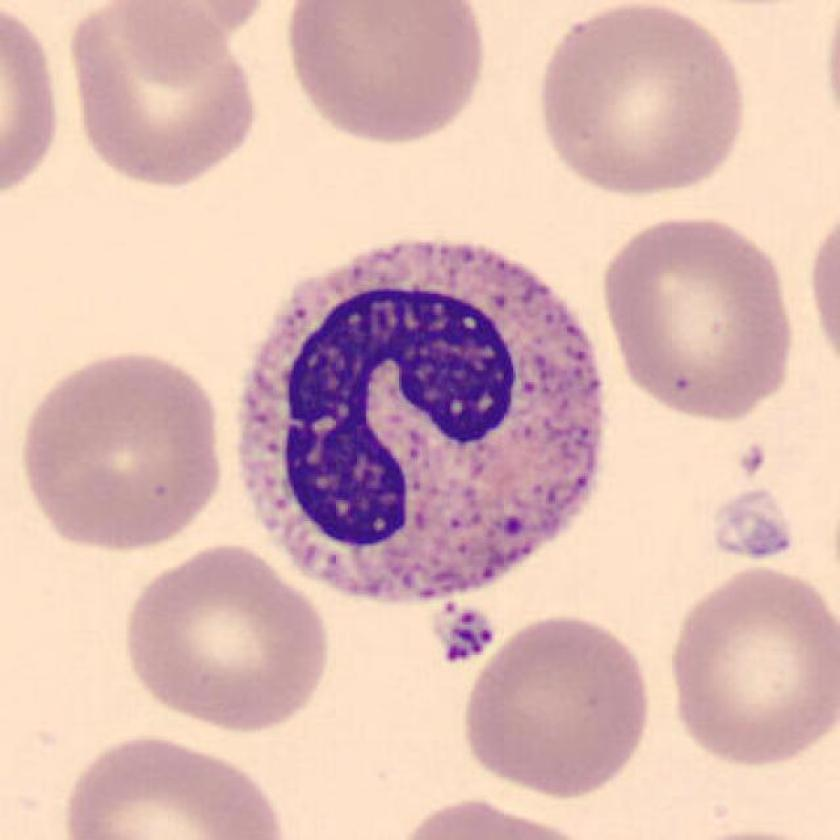neutrophil: (238, 240, 604, 598)
